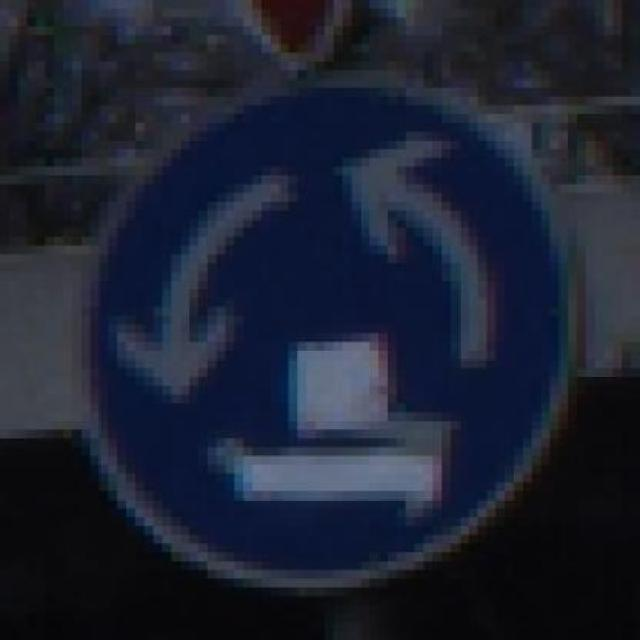Round-About: (72, 61, 596, 622)
